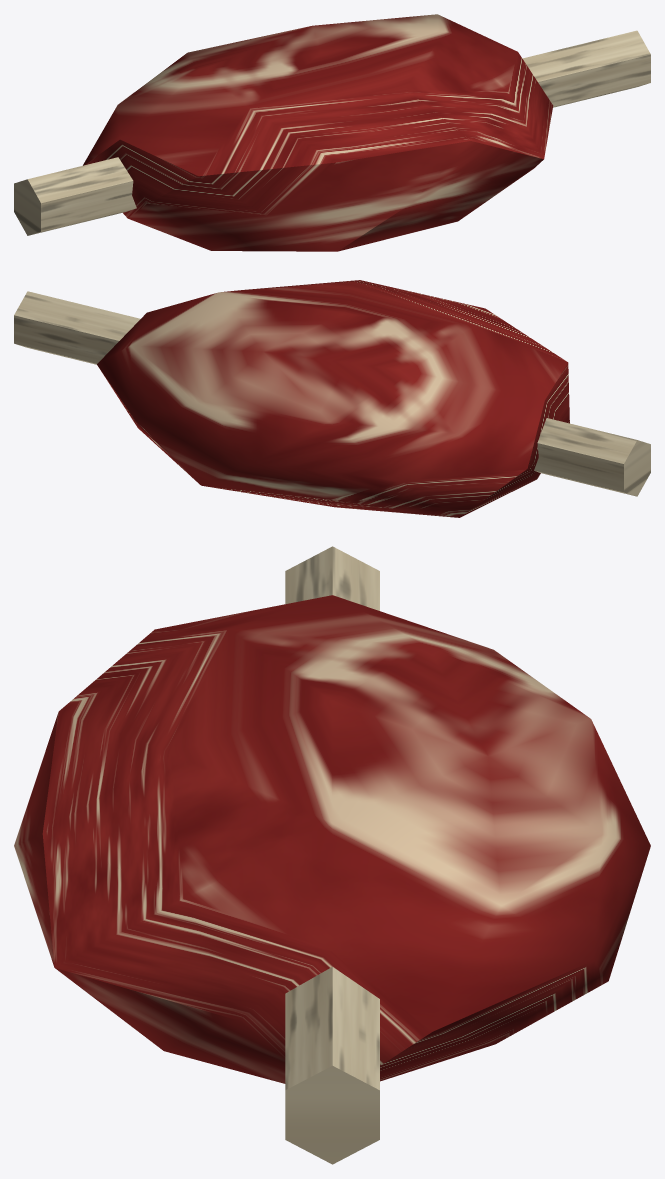
File: ITEM_RawMeat.fbx
3 views of the same model, one above another, from view 1: azimuth 30°, elevation 25°; view 2: azimuth 150°, elevation 25°; view 3: azimuth 270°, elevation 25° (orthographic). The views are drawn at different scales.
Parts seen in each view (by area): view 1: ITEM_RawMeat; view 2: ITEM_RawMeat; view 3: ITEM_RawMeat.
Boxes of the visible parts, left/top/right/bottom form: ITEM_RawMeat: left=14, top=14, right=650, bottom=251; ITEM_RawMeat: left=14, top=280, right=650, bottom=517; ITEM_RawMeat: left=14, top=546, right=650, bottom=1164.
Bounding box in the file's own units: 0.27 × 0.0716 × 0.14.
